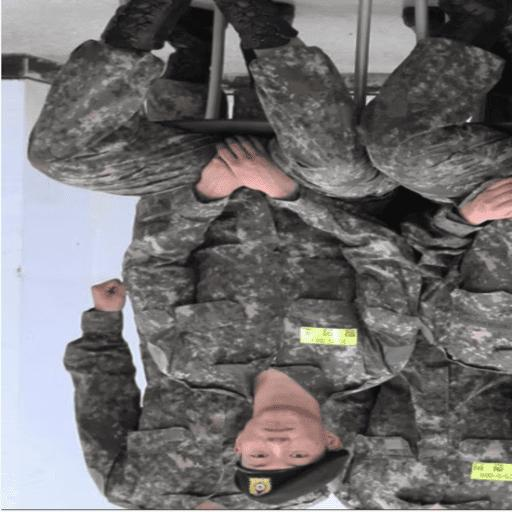korea army: (31, 3, 512, 512), (91, 4, 429, 495), (368, 0, 512, 381), (314, 307, 512, 512)
